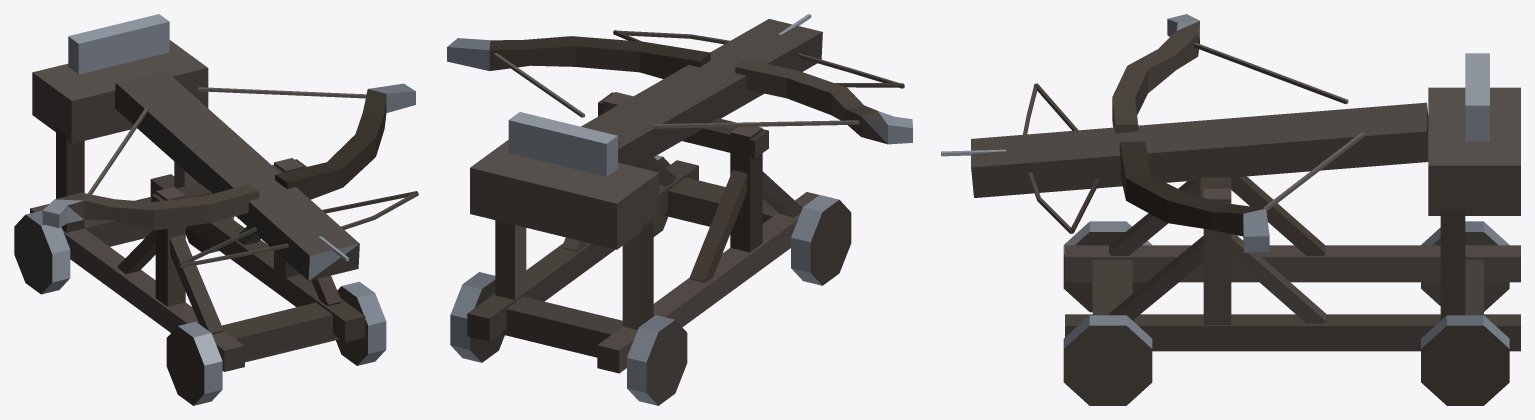
Rendered from ae_scorpion_iron_lod1.glb.
3 renders of one model, left to right at view 1: azimuth 30°, elevation 25°; view 2: azimuth 150°, elevation 25°; view 3: azimuth 270°, elevation 25°, orthographic. The views are drawn at different scales.
Visible parts, largest first — view 1: AE_Forward_PlusZ; view 2: AE_Forward_PlusZ; view 3: AE_Forward_PlusZ.
Part boxes in pixels (x1=…): AE_Forward_PlusZ: x1=14, y1=14, x2=418, y2=405; AE_Forward_PlusZ: x1=447, y1=14, x2=912, y2=405; AE_Forward_PlusZ: x1=941, y1=14, x2=1520, y2=405.
Bounding box in the file's own units: 1.75 × 0.983 × 1.88.
2 materials, 2 textured.
